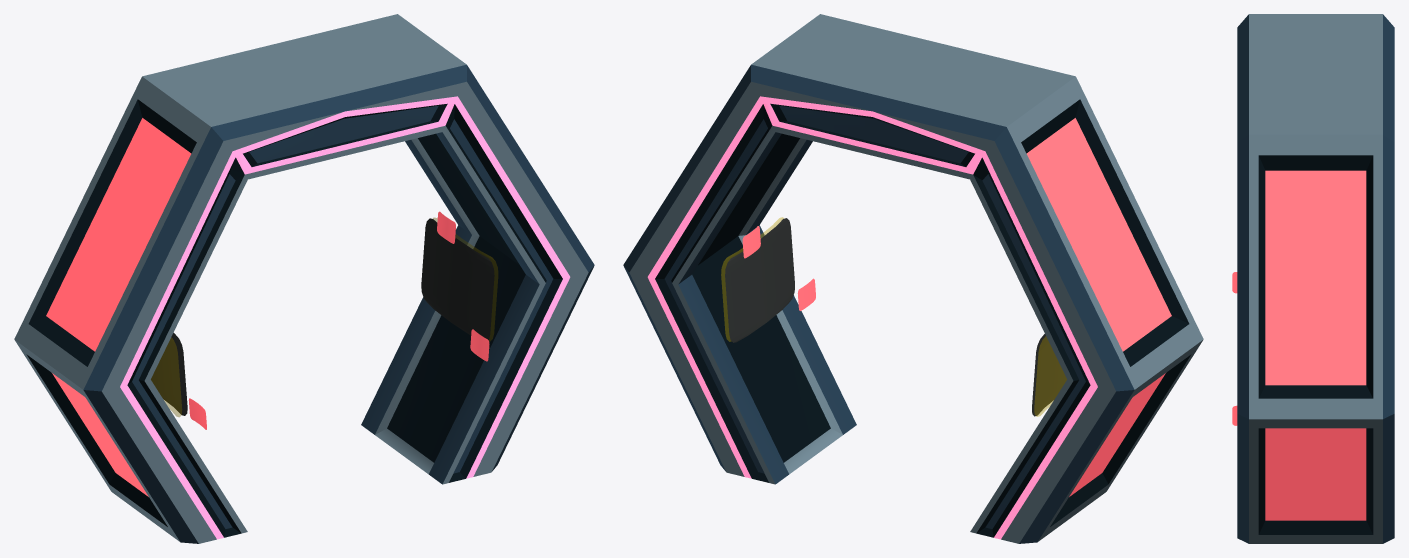
The model's file is museum_arcs_ads.fbx.
3 views of the same model, side by side, from view 1: azimuth 30°, elevation 25°; view 2: azimuth 150°, elevation 25°; view 3: azimuth 270°, elevation 25° (orthographic). The views are drawn at different scales.
Parts seen in each view (by area): view 1: arcs_entrance1; view 2: arcs_entrance1; view 3: arcs_entrance1.
Part boxes in pixels (<box>): arcs_entrance1: <box>14,14,594,543</box>; arcs_entrance1: <box>623,14,1203,543</box>; arcs_entrance1: <box>1232,14,1394,543</box>.
Size of the model in its own units: 557 by 424 by 158.
